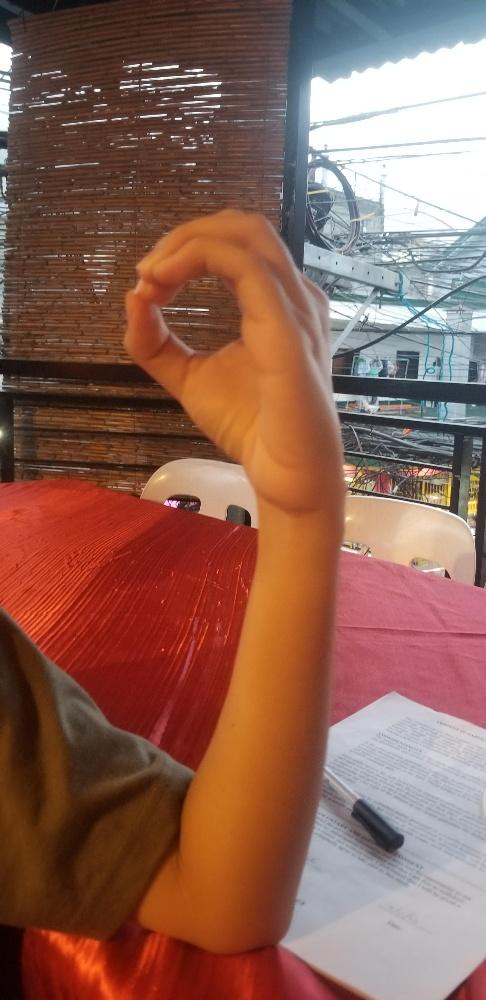o: (122, 209, 344, 520)
